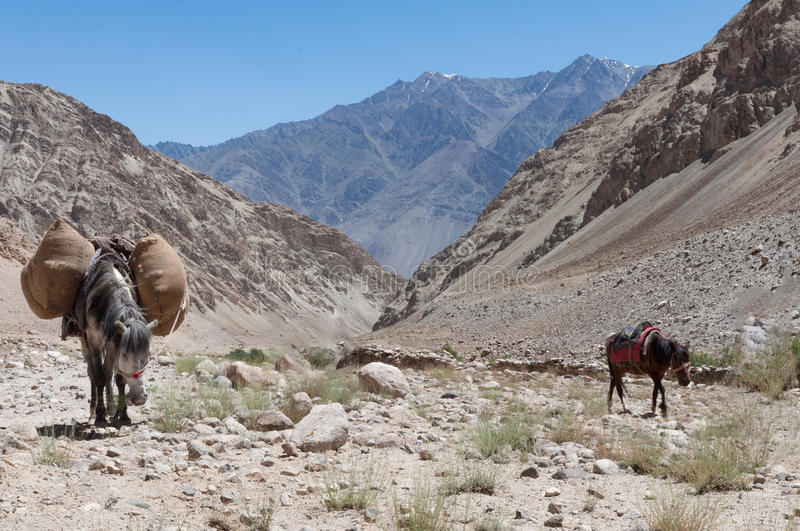equine: (62, 209, 178, 438), (579, 310, 720, 430)
